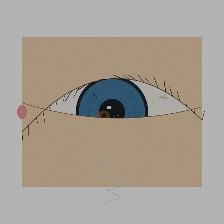foreign_body_visible: (86, 102, 122, 131)
